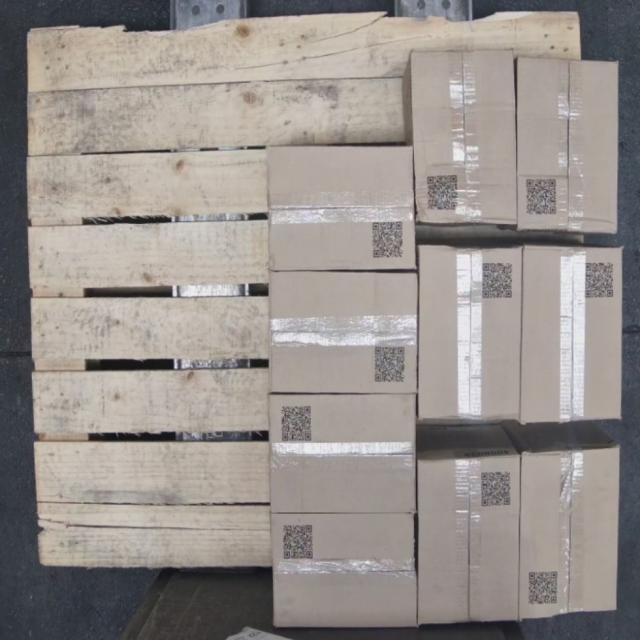box: (410, 48, 514, 225), (417, 244, 521, 421), (267, 144, 412, 270), (515, 54, 615, 233), (416, 453, 520, 622), (521, 246, 619, 423), (271, 272, 414, 392), (271, 391, 414, 511), (519, 448, 618, 618), (271, 512, 414, 626)
